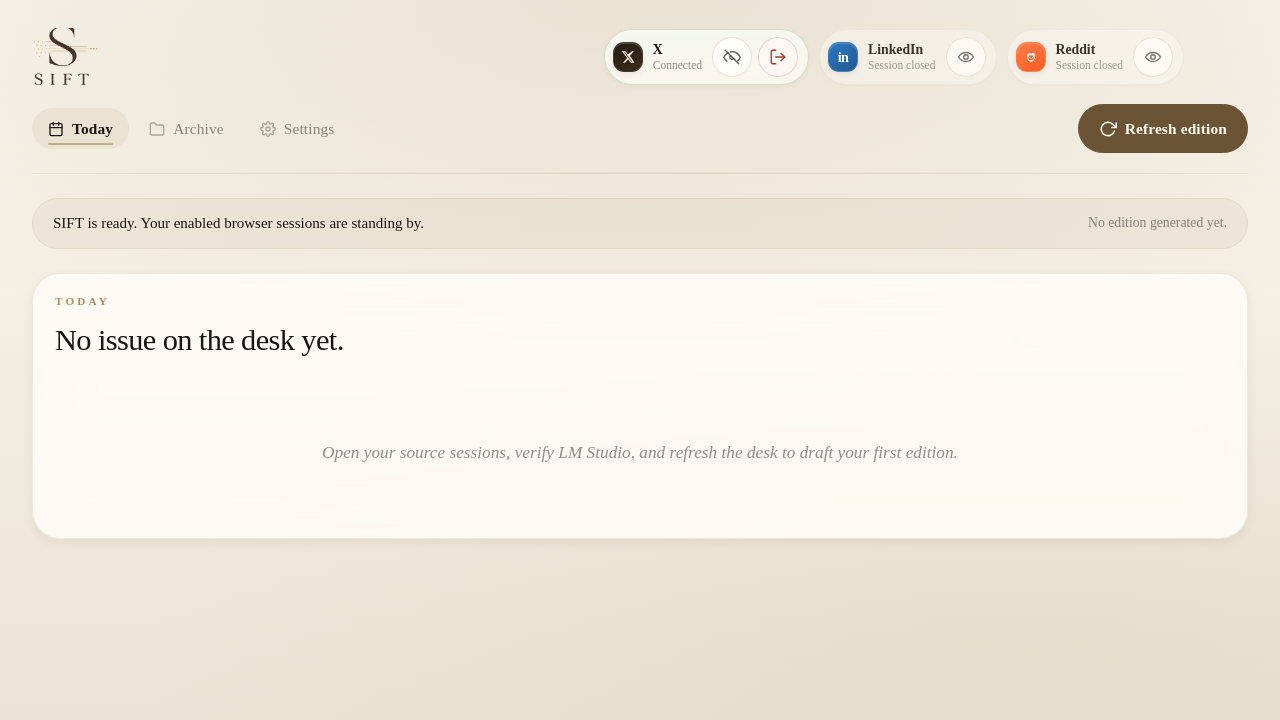
App › runs a manual sync when the X session is already visible without re-hiding it
The image size is (1280, 720).
Expected: the text "SIFT is ready." is shown, [53, 215, 424, 231]
Click the button "Refresh edition".
click(1163, 129)  # box [1078, 104, 1248, 153]
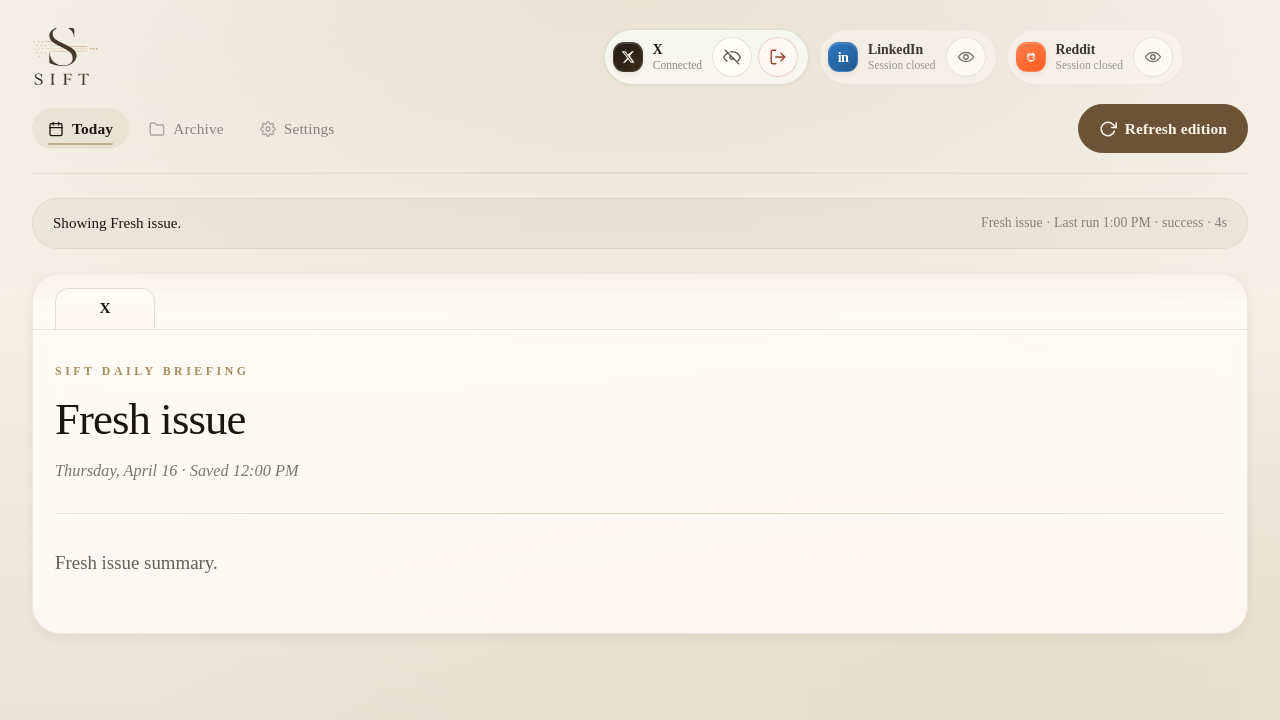
Expected: the heading "Fresh issue" is shown, [55, 394, 246, 444]
Expected: the text "Showing Fresh issue." is shown, [53, 211, 181, 236]
